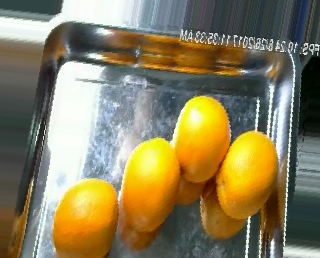Orange: (120, 136, 181, 231), (216, 130, 279, 220), (53, 177, 121, 258), (170, 95, 231, 185)
